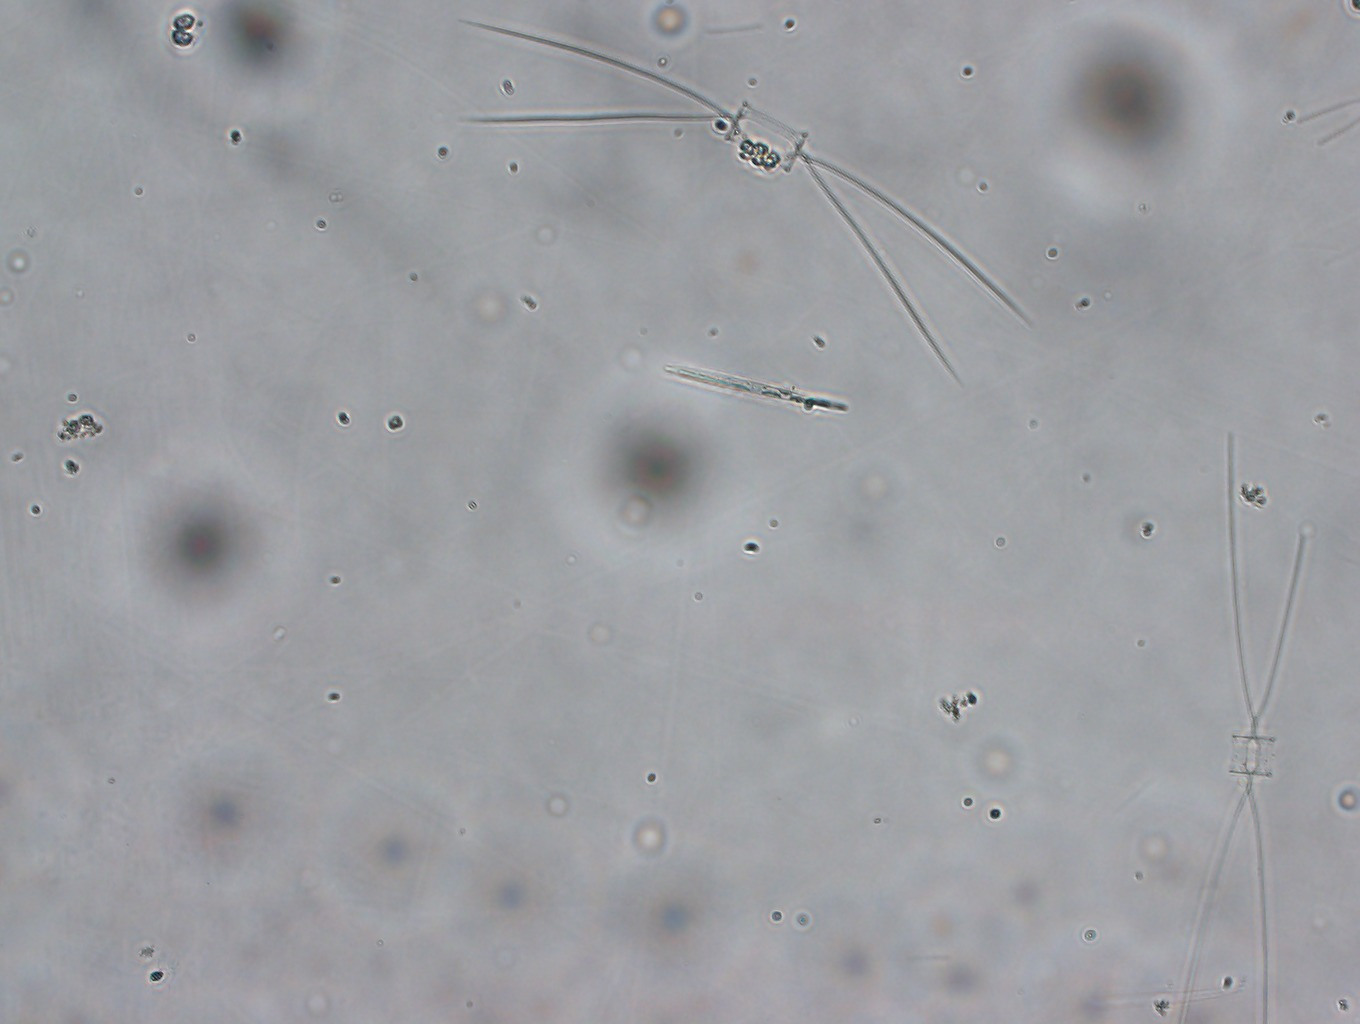chaetoceros: (441, 17, 1037, 385), (1156, 417, 1322, 1019)
